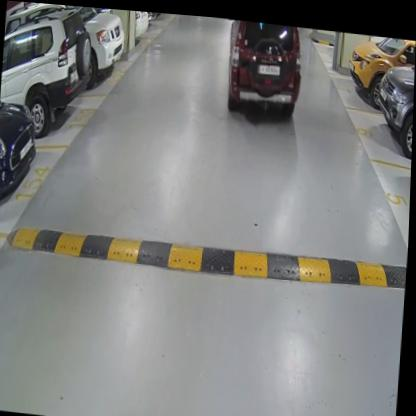np: (258, 59, 281, 74)
